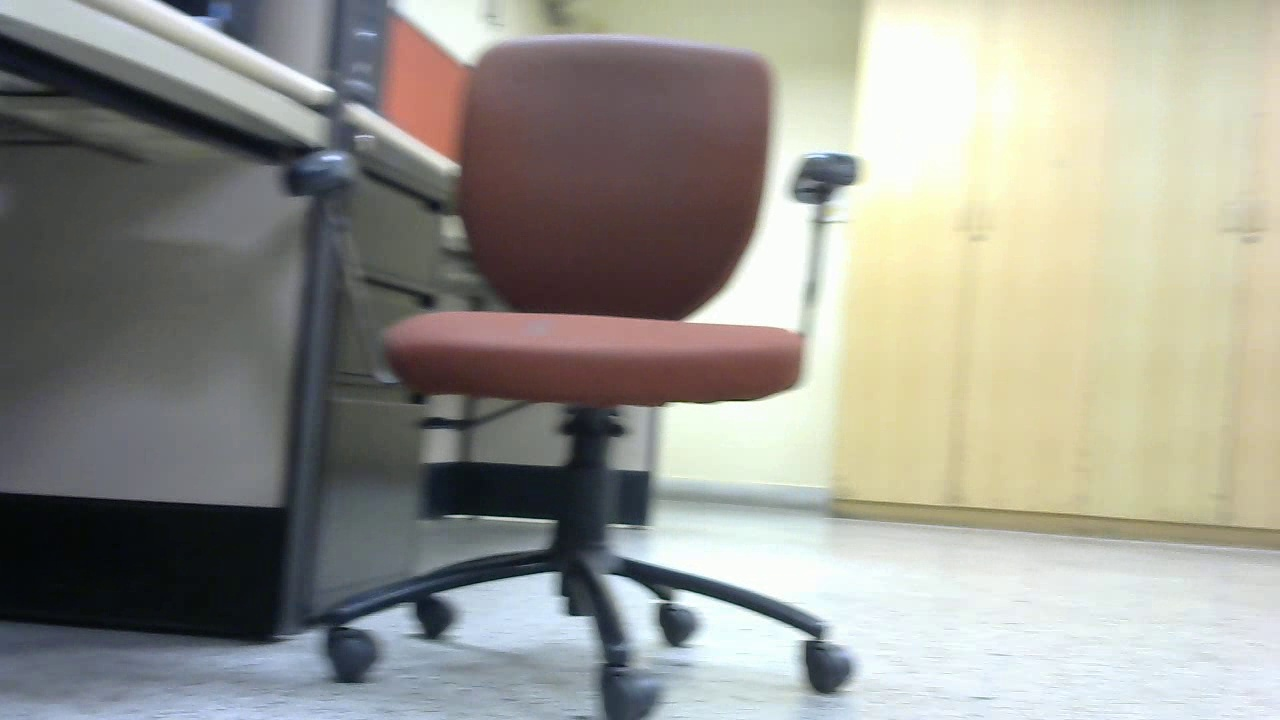chair: (610, 214, 861, 562), (244, 182, 423, 517)
